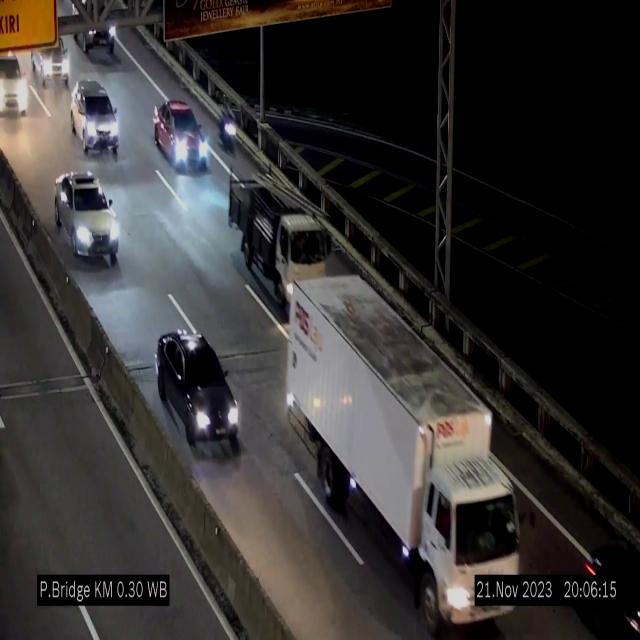Car: (156, 328, 240, 458), (575, 524, 640, 640), (56, 171, 118, 259), (151, 97, 209, 175), (70, 81, 120, 161), (0, 46, 34, 122), (71, 0, 116, 55), (30, 30, 69, 90)
Motorcycle: (219, 92, 237, 161)
Truck: (293, 286, 521, 628), (229, 178, 334, 324)
